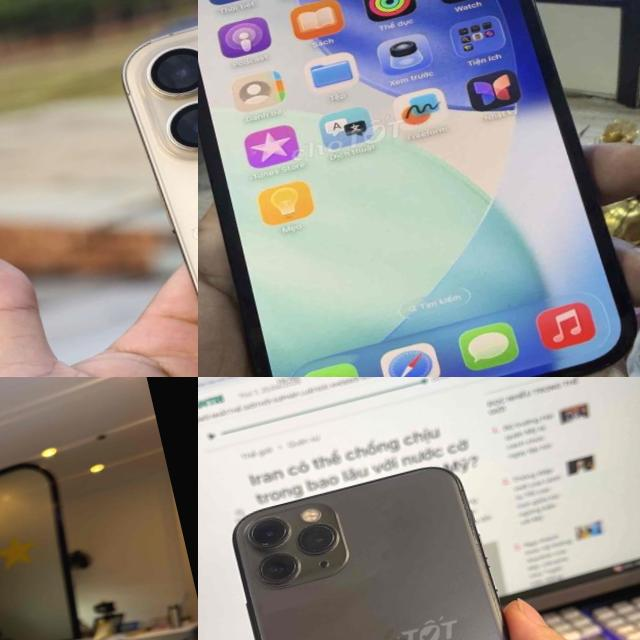gen_11: (200, 440, 577, 640)
gen_12_13: (198, 0, 640, 377)
gen_14: (102, 0, 198, 377)
